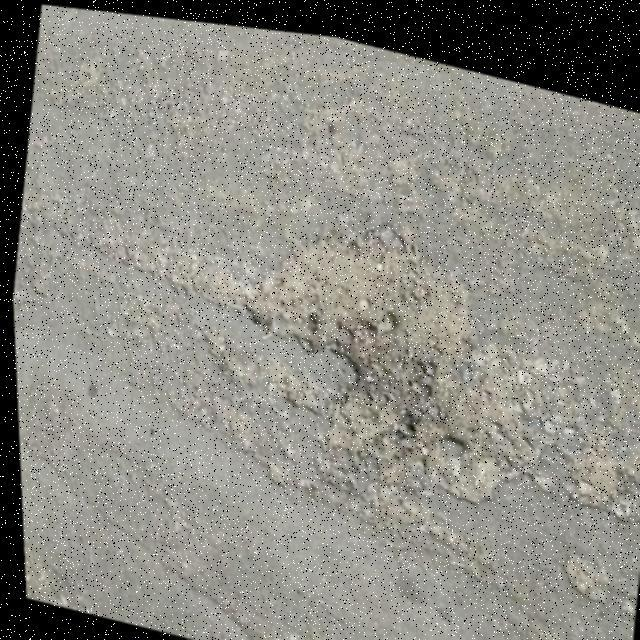pothole: (220, 168, 542, 530)
